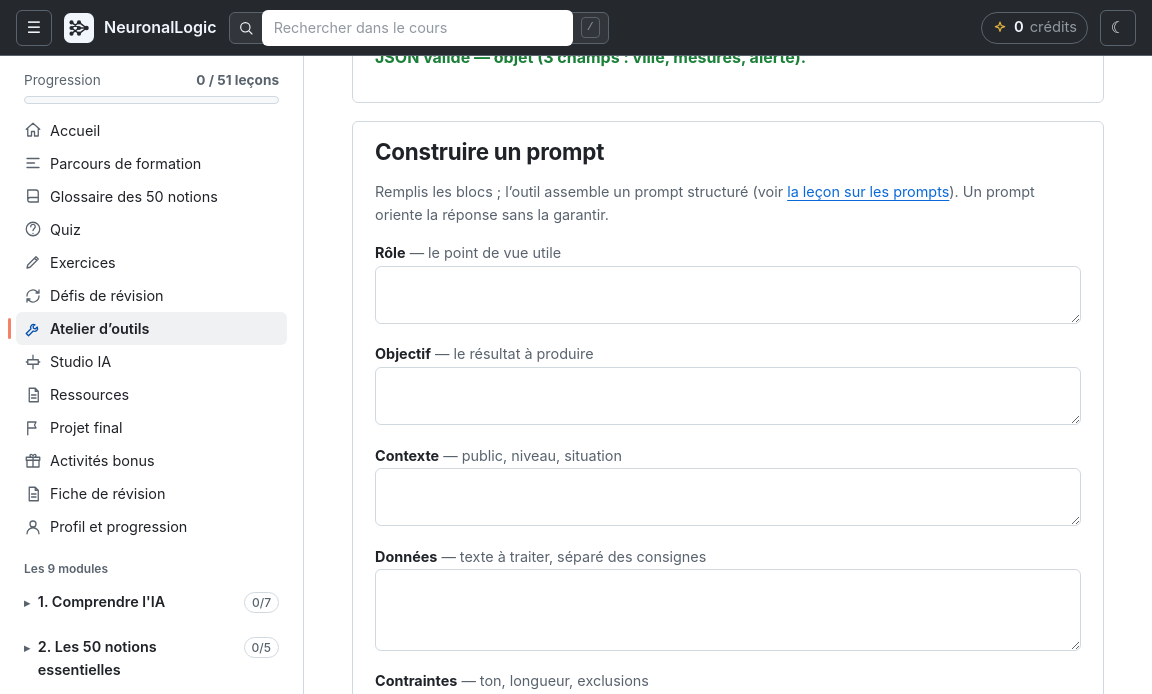
it: atelier et révision dans l’interface › construit et copie un prompt
(page scrolled)
Type "Expliquer le RAG" into the text box labelled "Objectif — le résultat à produire" at [728, 396], box [375,367,1081,425]
(page scrolled)
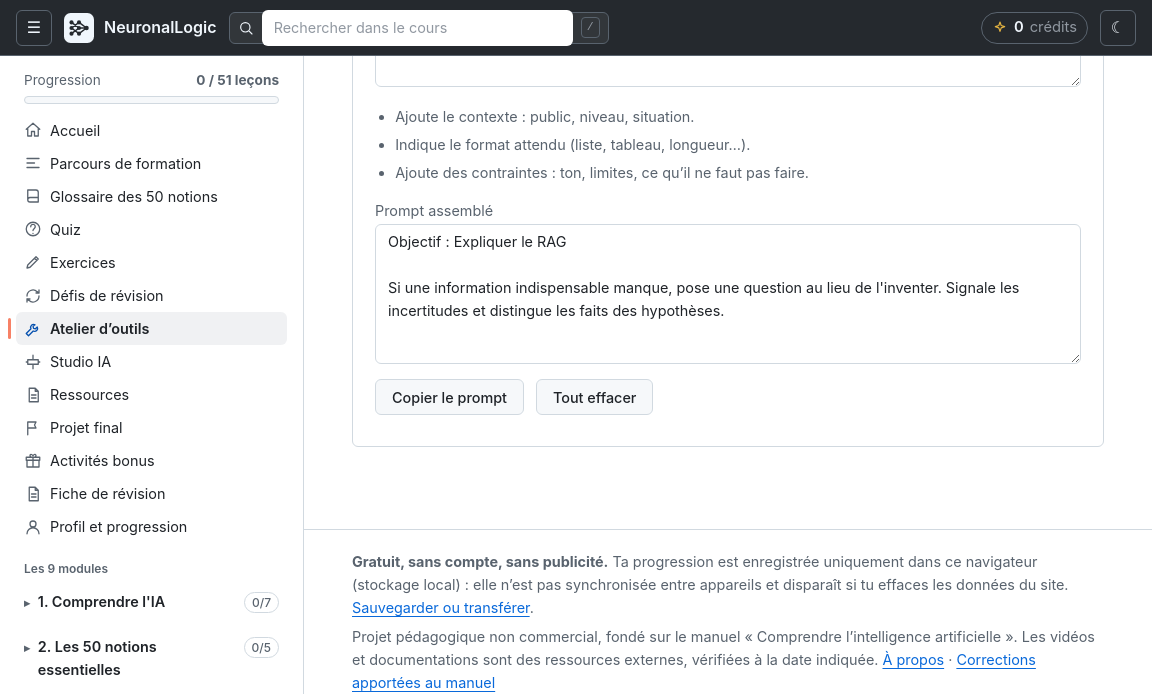
Click the button "Copier le prompt" at [450, 397], box [375,379,524,415]
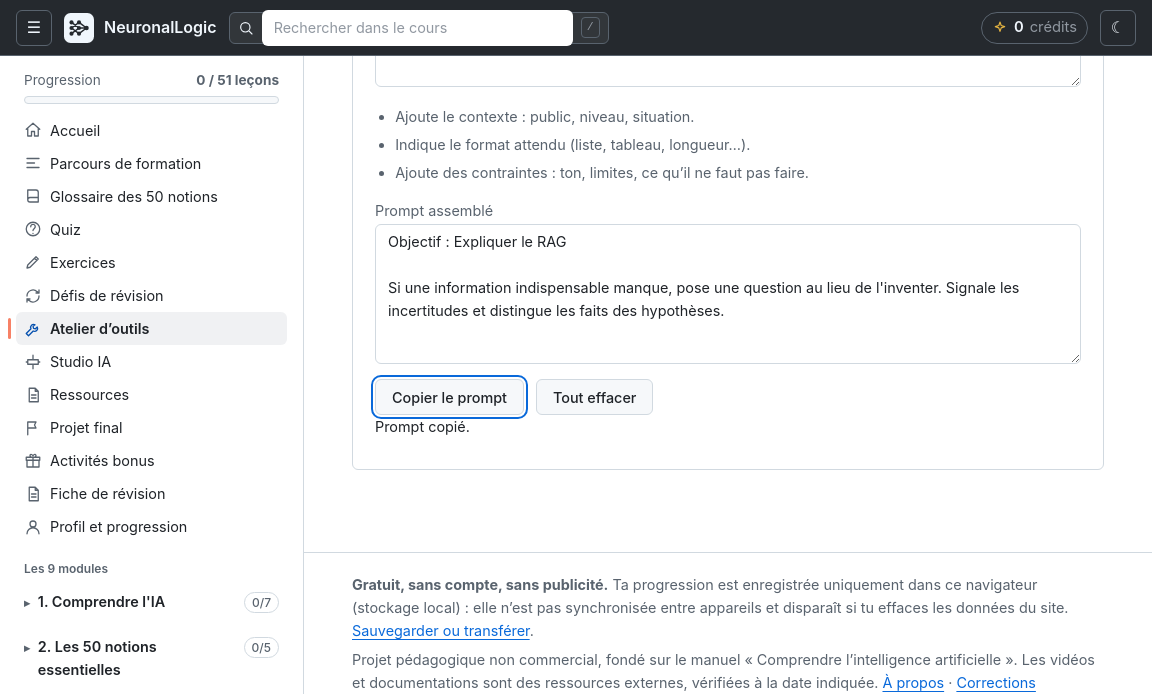
Check: the text "Prompt copié." is shown, box [375,418,470,435]
